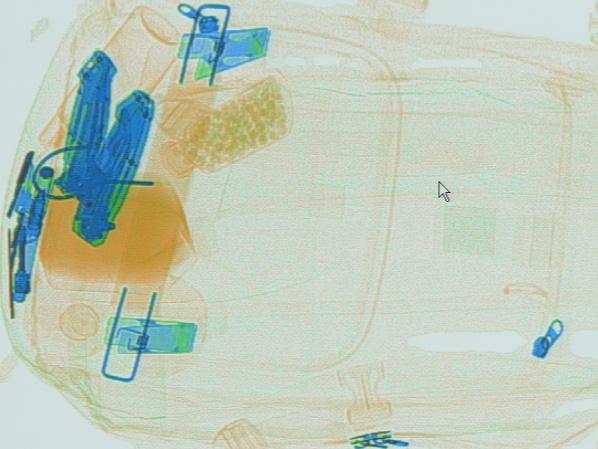knife: (66, 89, 155, 248), (52, 48, 117, 197)
